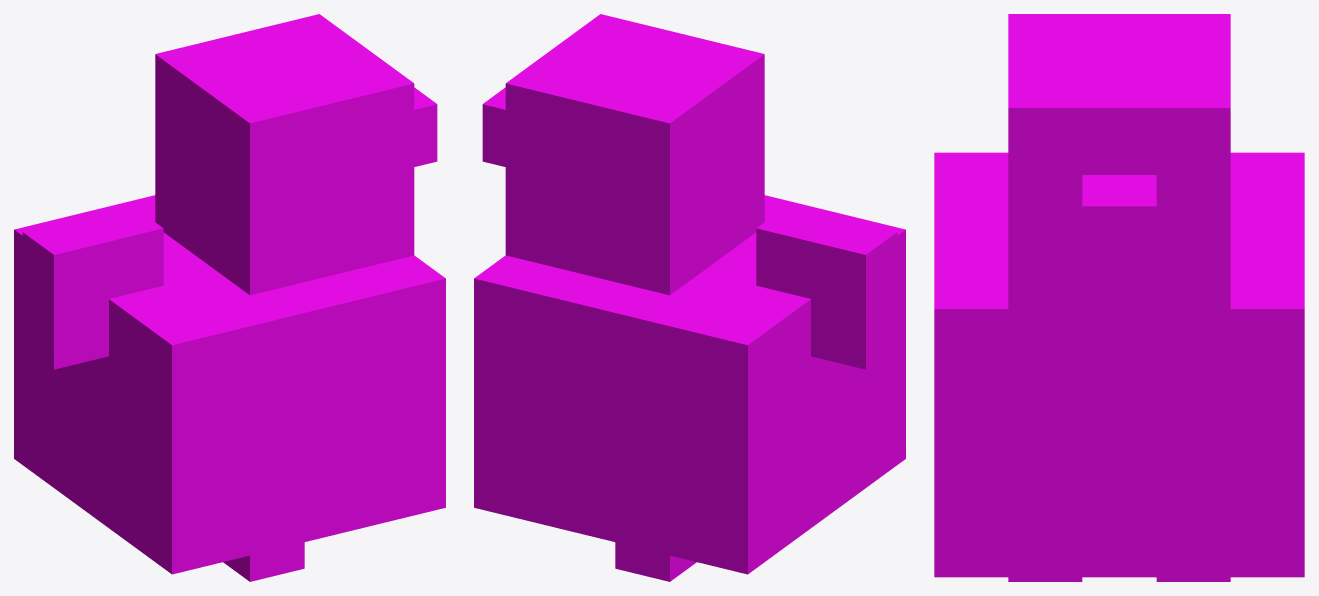
Rendered from chicken.fbx.
3 renders of one model, left to right at view 1: azimuth 30°, elevation 25°; view 2: azimuth 150°, elevation 25°; view 3: azimuth 270°, elevation 25°, orthographic. The views are drawn at different scales.
Parts seen in each view (by area): view 1: chicken; view 2: chicken; view 3: chicken.
Boxes of the visible parts, <box> form: chicken: <box>14,14,445,581</box>; chicken: <box>474,14,905,581</box>; chicken: <box>934,14,1304,581</box>.
Bounding box in the file's own units: 700 × 800 × 500.
